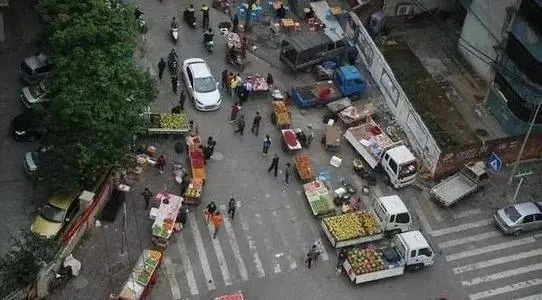Gerobak: (117, 248, 165, 298), (146, 192, 187, 245), (182, 136, 209, 204), (301, 178, 333, 218), (144, 112, 192, 136), (268, 98, 295, 128), (293, 153, 317, 182), (279, 126, 304, 152)
